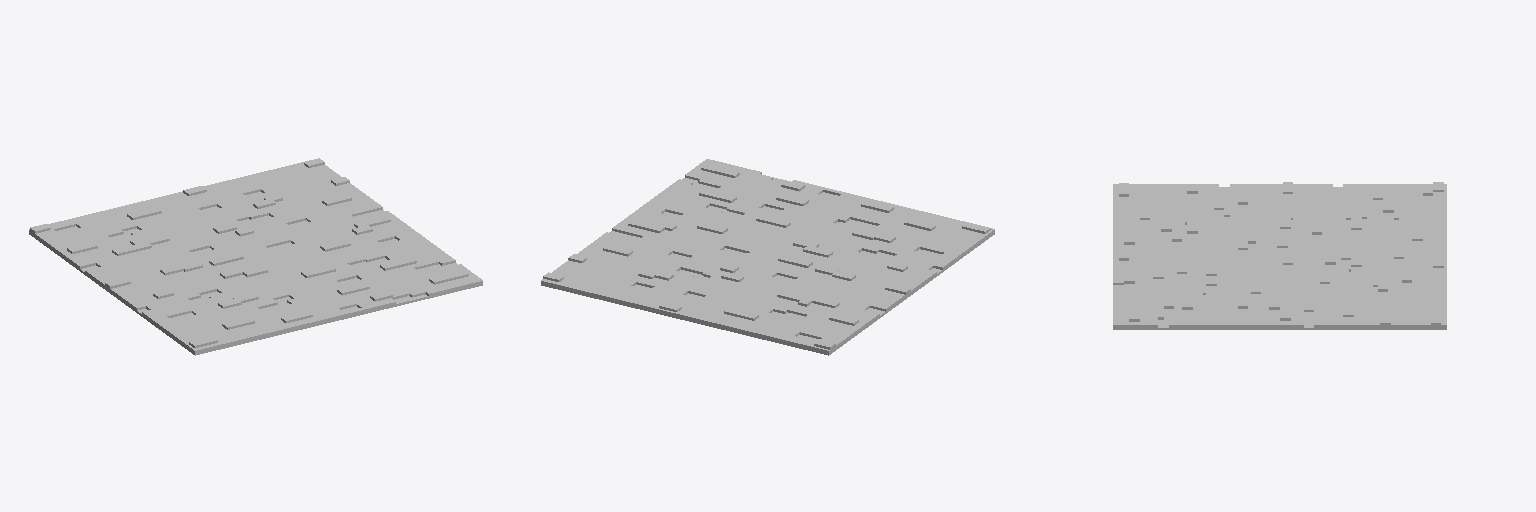
Rendered from Grass.obj.
3 renders of one model, left to right at view 1: azimuth 30°, elevation 25°; view 2: azimuth 150°, elevation 25°; view 3: azimuth 270°, elevation 25°, orthographic.
Visible parts, largest first — view 1: object 1; view 2: object 1; view 3: object 1.
Part boxes in pixels (x1,y1,x2,y2): object 1: (29,158,482,355); object 1: (541,159,994,355); object 1: (1113,182,1446,329).
Size of the model in its own units: 12.6 by 0.3 by 12.6.